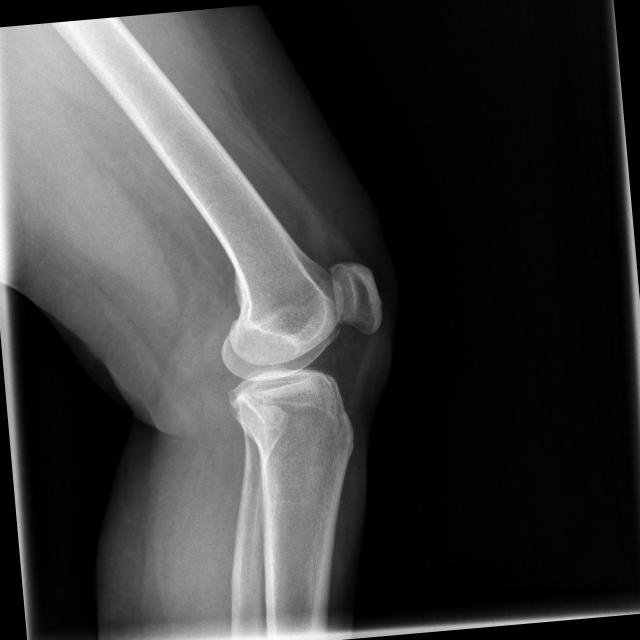Knee: (215, 253, 395, 437)
